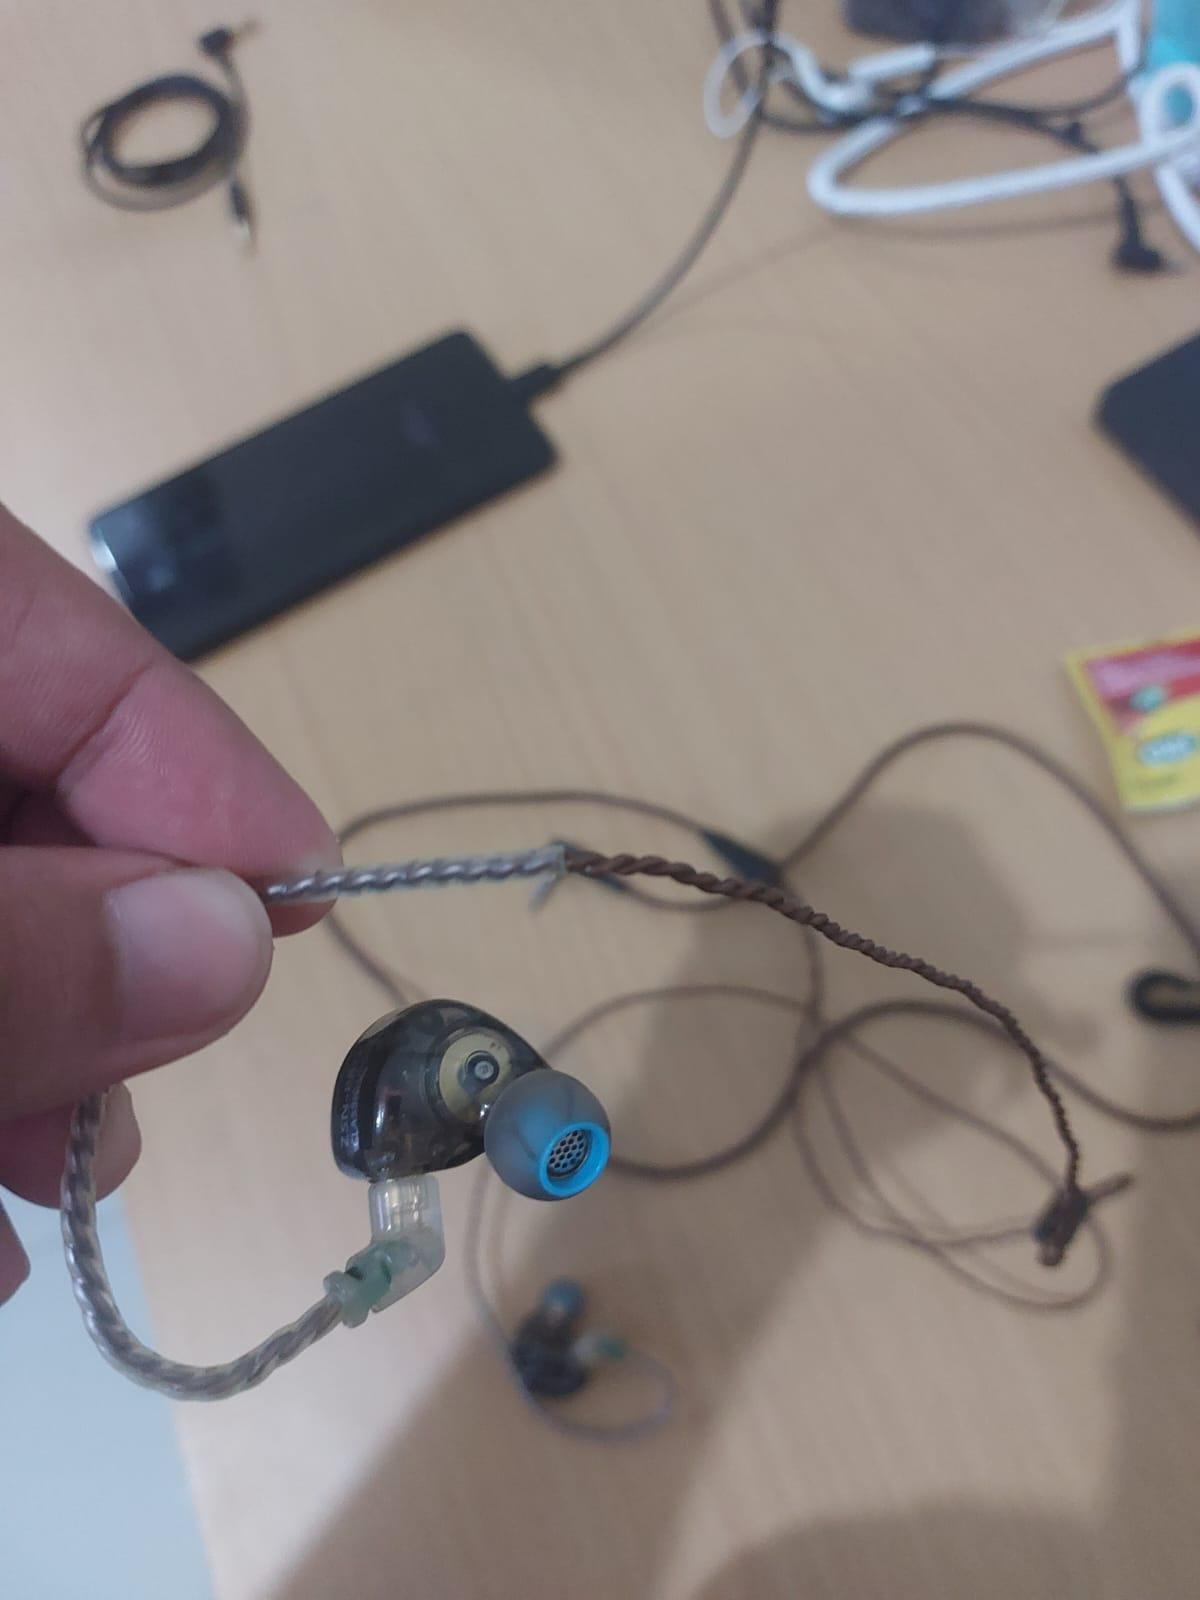Earphone: (307, 981, 627, 1358)
